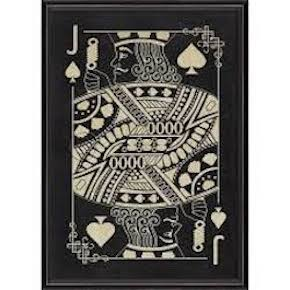JackOfSpades: (39, 2, 252, 290)
